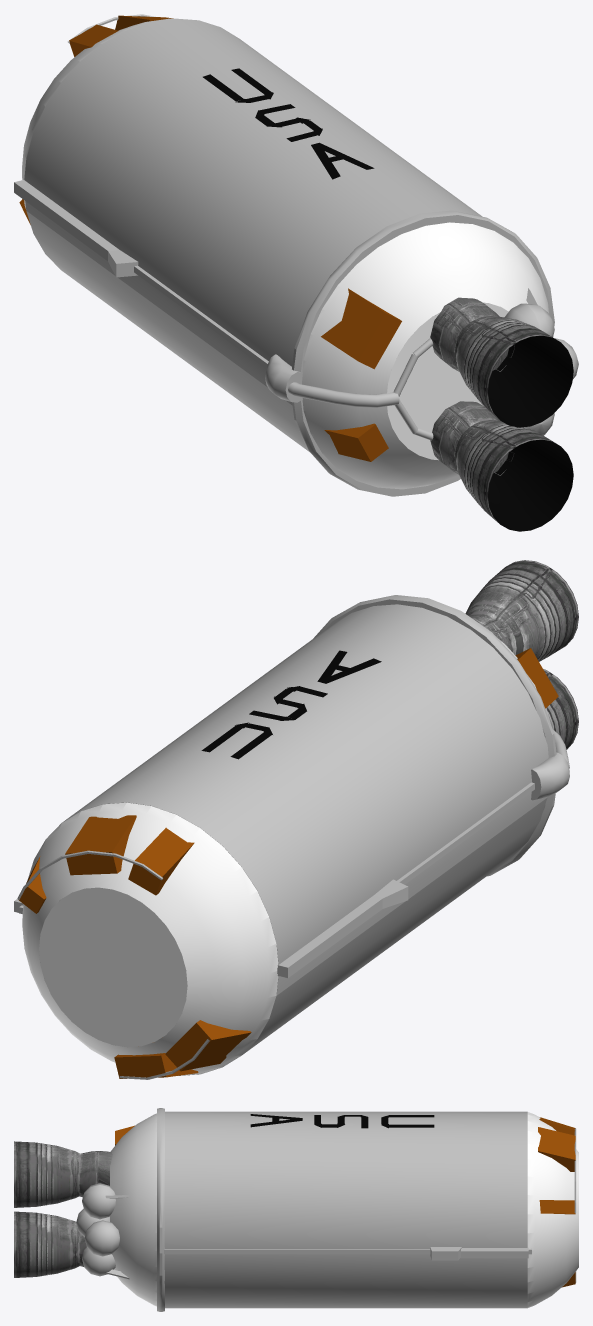
Rendered from centaurd.obj.
The picture shows the model from 3 angles, top to bottom: view 1: azimuth 30°, elevation 25°; view 2: azimuth 150°, elevation 25°; view 3: azimuth 270°, elevation 25°; orthographic projection. The views are drawn at different scales.
Visible parts, largest first — view 1: group13, group23, group19, group11, group3, group2, group12, group17, group4, group15, group0, group5 (+4 smaller); view 2: group13, group22, group11, group17, group19, group6, group8, group0, group9, group12, group7, group16 (+3 smaller); view 3: group13, group23, group22, group11, group12, group14, group18, group19, group6, group0, group10.
Part boxes in pixels (x1=…): group13: x1=24, y1=18, x2=482, y2=451; group23: x1=302, y1=222, x2=548, y2=489; group19: x1=292, y1=210, x2=554, y2=496; group11: x1=430, y1=297, x2=573, y2=427; group3: x1=488, y1=439, x2=573, y2=531; group2: x1=488, y1=335, x2=573, y2=427; group12: x1=430, y1=401, x2=573, y2=531; group17: x1=14, y1=180, x2=268, y2=368; group4: x1=321, y1=288, x2=401, y2=369; group15: x1=288, y1=338, x2=433, y2=440; group0: x1=203, y1=68, x2=374, y2=179; group5: x1=324, y1=423, x2=388, y2=461; group13: x1=32, y1=604, x2=548, y2=1075; group22: x1=22, y1=802, x2=278, y2=1075; group11: x1=465, y1=560, x2=578, y2=661; group17: x1=277, y1=782, x2=534, y2=977; group19: x1=313, y1=595, x2=556, y2=876; group6: x1=65, y1=815, x2=136, y2=875; group8: x1=165, y1=1020, x2=251, y2=1071; group0: x1=201, y1=650, x2=381, y2=759; group9: x1=128, y1=827, x2=194, y2=895; group12: x1=543, y1=669, x2=578, y2=749; group7: x1=114, y1=1053, x2=198, y2=1078; group16: x1=531, y1=752, x2=569, y2=800; group13: x1=164, y1=1111, x2=527, y2=1308; group23: x1=110, y1=1113, x2=156, y2=1306; group22: x1=527, y1=1112, x2=578, y2=1307; group11: x1=14, y1=1141, x2=112, y2=1207; group12: x1=14, y1=1211, x2=86, y2=1277; group14: x1=76, y1=1183, x2=119, y2=1276; group18: x1=164, y1=1247, x2=531, y2=1260; group19: x1=157, y1=1108, x2=164, y2=1311; group6: x1=538, y1=1127, x2=575, y2=1171; group0: x1=250, y1=1114, x2=434, y2=1128; group10: x1=539, y1=1200, x2=575, y2=1214.
Size of the model in its own units: 3.5 by 3.22 by 8.89.
5 materials, 1 textured.
